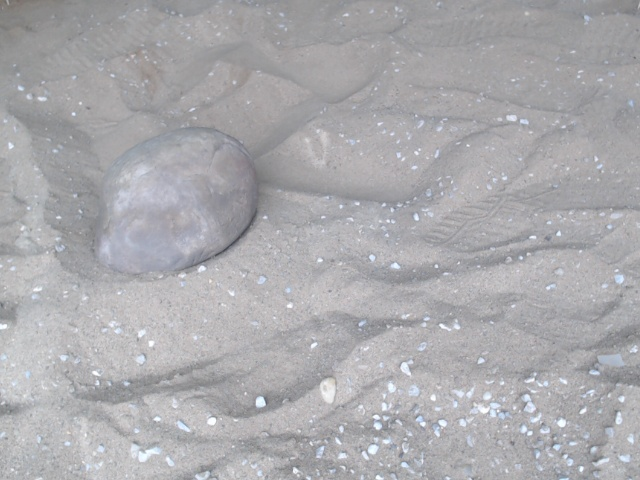rock: (85, 117, 267, 286)
